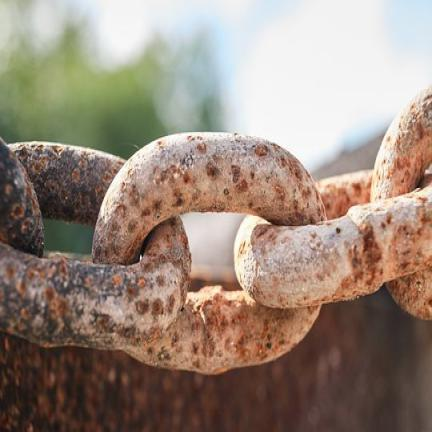karat: (93, 133, 325, 263), (0, 217, 190, 351), (234, 188, 431, 307), (126, 286, 320, 374), (10, 144, 124, 226), (372, 88, 431, 197), (231, 165, 240, 182)
